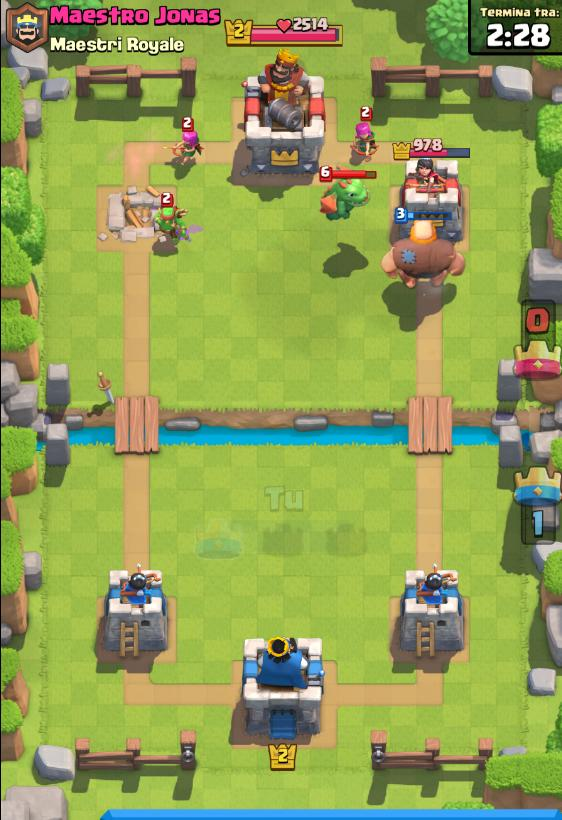ally_giant: (383, 209, 472, 296)
enemy_archer: (177, 119, 203, 165), (350, 112, 372, 158), (354, 106, 374, 144)
enemy_baby_dragon: (317, 164, 380, 226)
enemy_spear_goblin: (152, 193, 189, 249)
